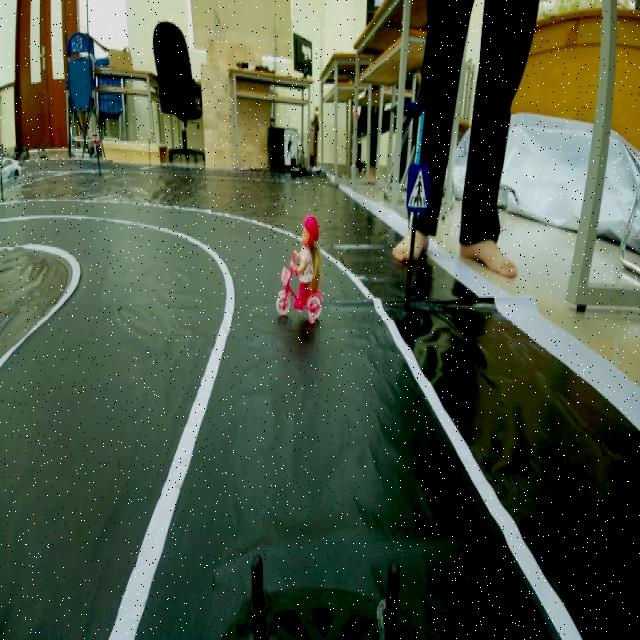crosswalk: (396, 147, 436, 215)
pedestrian: (276, 204, 328, 318)
